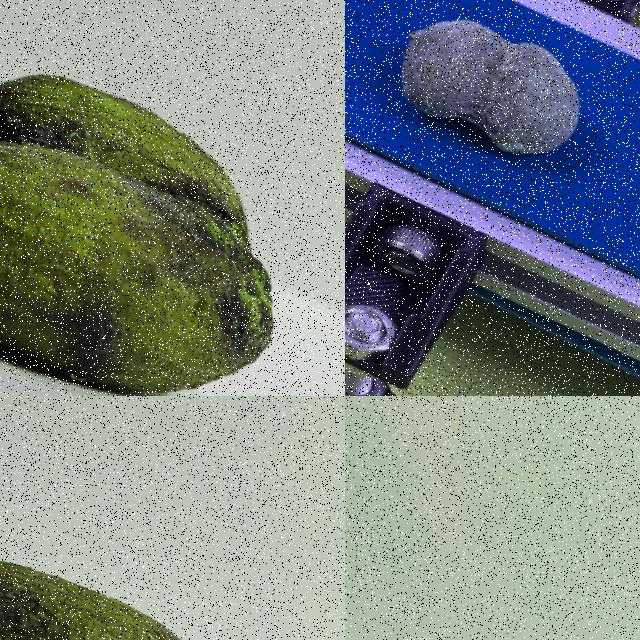Agglomerated_cocoabeans: (0, 0, 344, 395), (345, 0, 639, 238)
Fine_cocoabeans: (0, 460, 310, 639)
